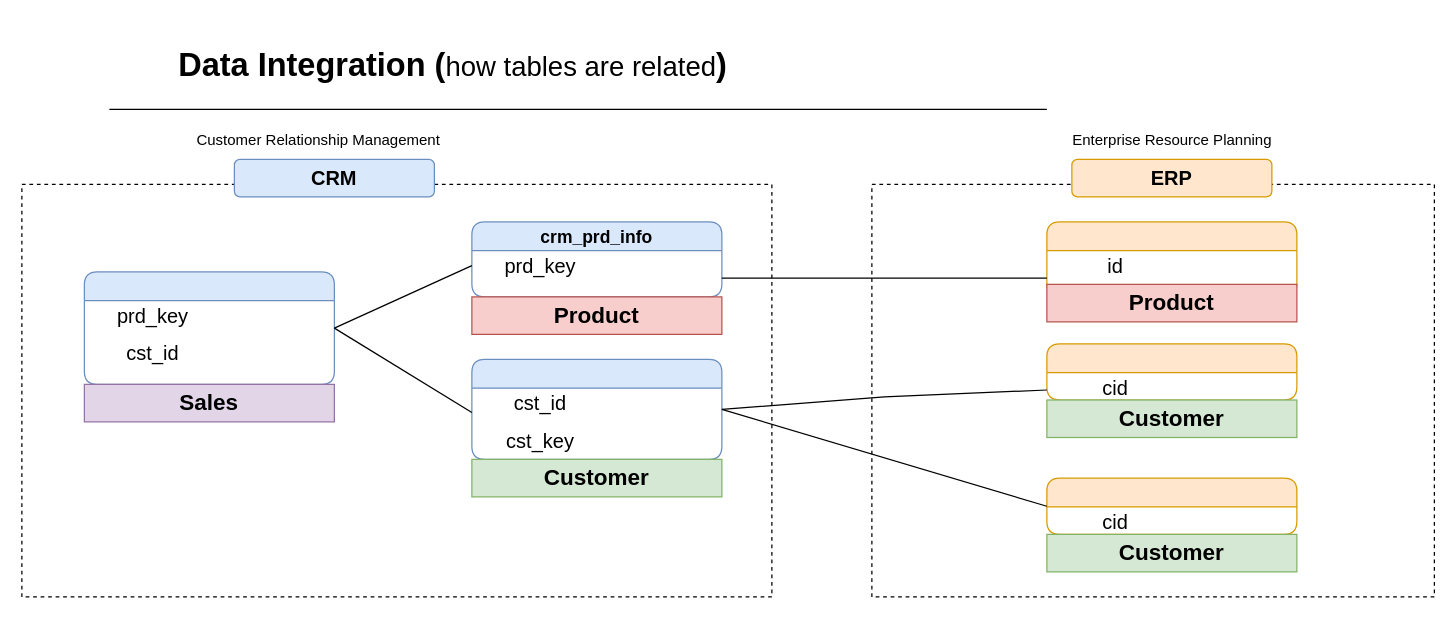
Some shapes in this 1456 by 619 pixel diagram are drawn without their labels. The box of each missing label's shape, as (x1, y1, x2, y2) in pixels:
crm_cust_info: (471, 358, 722, 459)
crm_sales_details: (83, 271, 334, 384)
erp_cust_az12: (1046, 342, 1297, 400)
erp_loc_a101: (1046, 477, 1297, 534)
erp_px_cat_g1v2: (1046, 221, 1297, 297)
